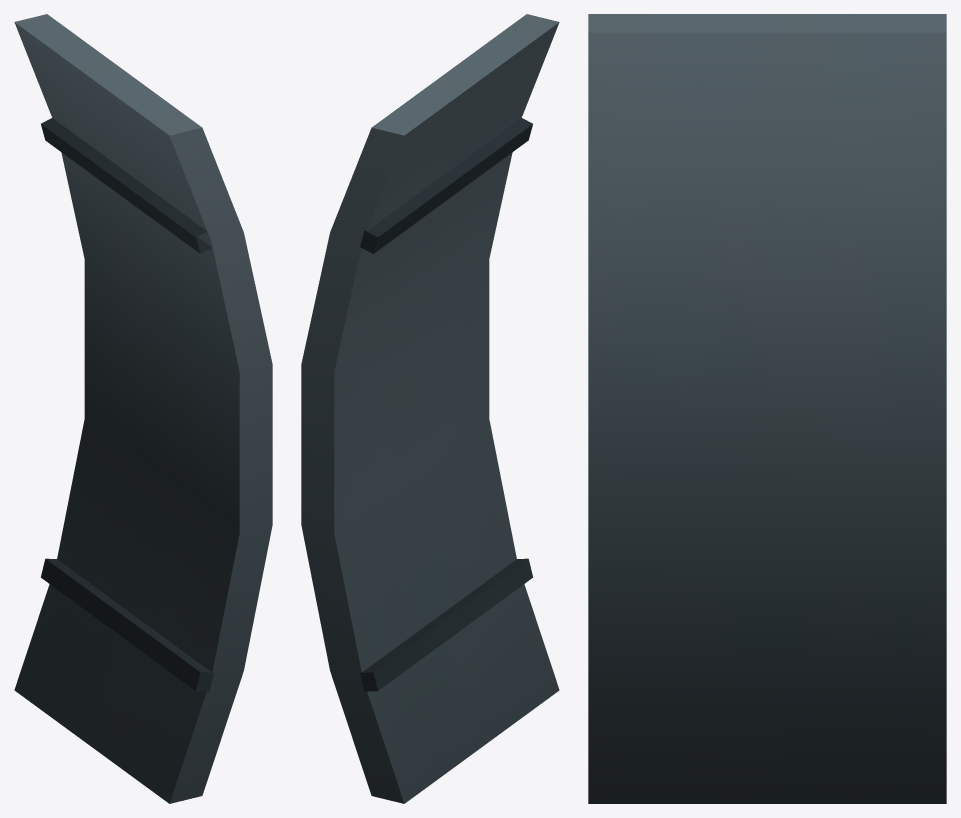
Rendered from SM_WallU_05.fbx.
3 renders of one model, left to right at view 1: azimuth 30°, elevation 25°; view 2: azimuth 150°, elevation 25°; view 3: azimuth 270°, elevation 25°, orthographic. The views are drawn at different scales.
Parts seen in each view (by area): view 1: SM_WallU_05; view 2: SM_WallU_05; view 3: SM_WallU_05.
Part boxes in pixels (bbox=[...]): SM_WallU_05: bbox=[14, 14, 272, 803]; SM_WallU_05: bbox=[301, 14, 559, 803]; SM_WallU_05: bbox=[588, 14, 946, 803].
Bounding box in the file's own units: 0.6439 × 1.68 × 3.99.
